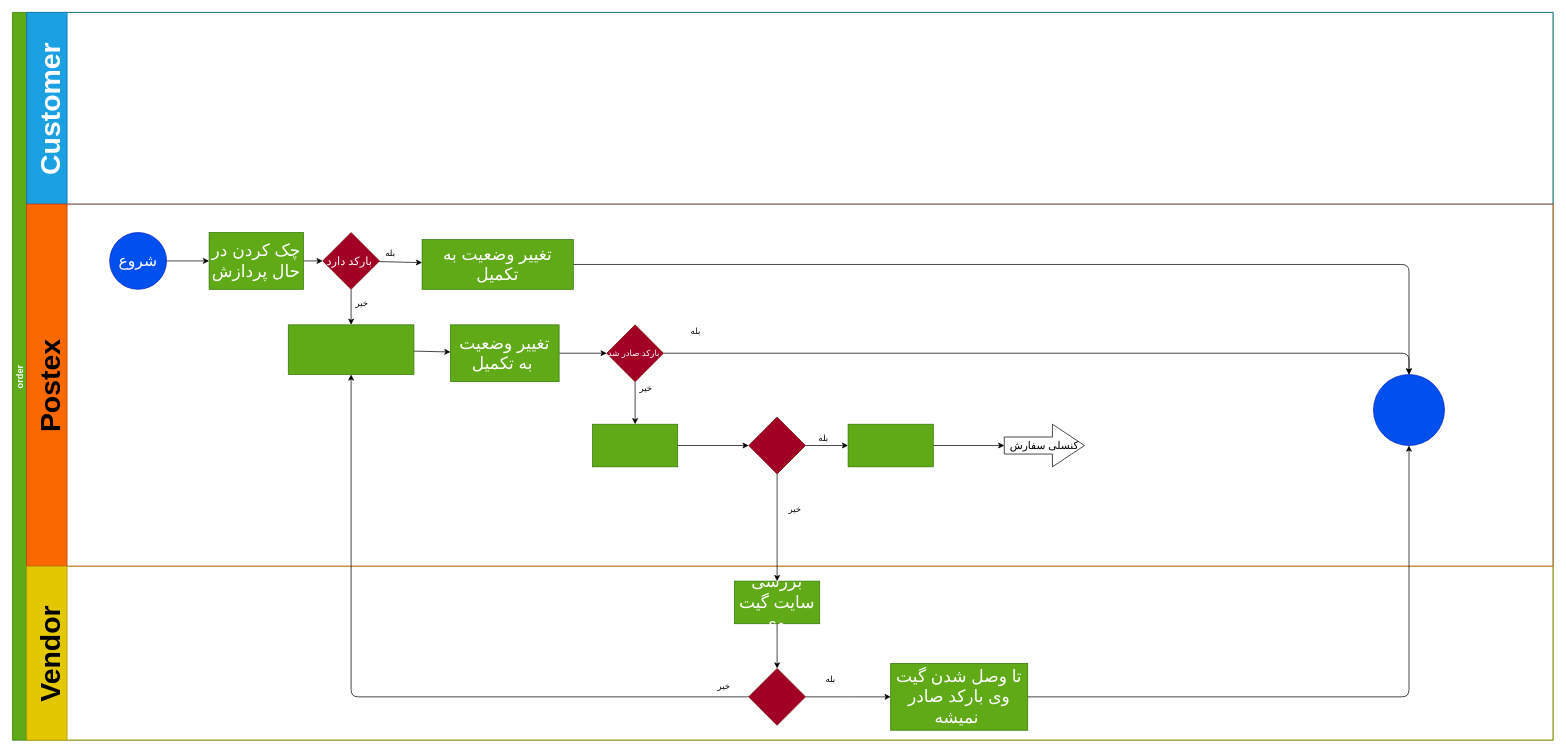
This 1566x753 diagram has some shape labels left out. The centre of each missing label's shape, as x and y in pixels:
"بررسی مشکل" goes at [635,445].
"حذف SendToData" goes at [351,349].
"قطع هست" goes at [776,696].
"مشکل داخلی است" goes at [776,445].
"پایان" goes at [1408,410].
"کنسل شفارش" goes at [890,445].
